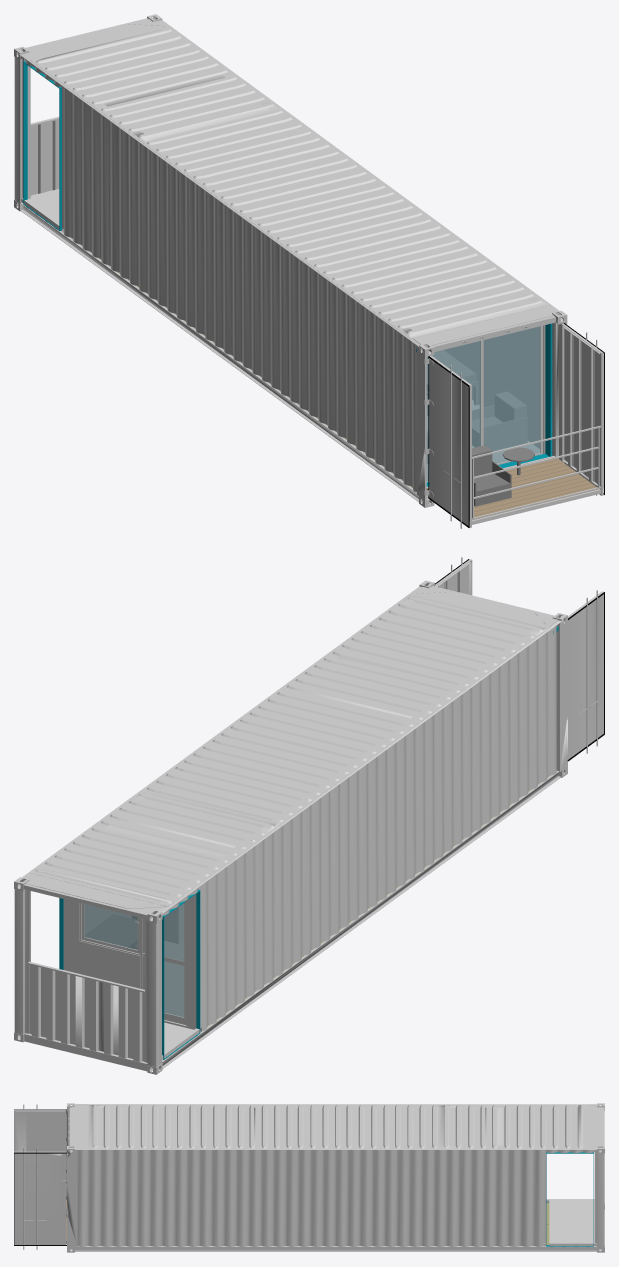
Rendered from sami_-_residential_40_container_design.glb.
The picture shows the model from 3 angles, top to bottom: view 1: azimuth 30°, elevation 25°; view 2: azimuth 150°, elevation 25°; view 3: azimuth 270°, elevation 25°; orthographic projection. The views are drawn at different scales.
Parts seen in each view (by area): view 1: Object_2, Object_4, Object_3, Object_15, Object_7, Object_12, Object_11, Object_6, Object_10; view 2: Object_2, Object_4, Object_3, Object_15, Object_11, Object_8, Object_7, Object_10; view 3: Object_2, Object_4, Object_3, Object_10, Object_6, Object_11.
Part boxes in pixels (x1,y1,x2,y2): Object_2: (14,18,600,524); Object_4: (30,26,603,521); Object_3: (14,14,603,528); Object_15: (426,326,540,481); Object_7: (427,350,534,506); Object_12: (426,457,599,520); Object_11: (23,61,552,486); Object_6: (428,323,604,527); Object_10: (21,189,63,232); Object_2: (14,585,603,1074); Object_4: (14,557,587,919); Object_3: (14,561,603,1074); Object_15: (84,904,184,1017); Object_11: (59,626,558,1059); Object_8: (164,941,183,1016); Object_7: (85,914,137,948); Object_10: (162,1022,201,1059); Object_2: (14,1104,604,1252); Object_4: (14,1104,601,1249); Object_3: (14,1103,604,1251); Object_10: (543,1199,597,1246); Object_6: (14,1109,67,1245); Object_11: (546,1152,593,1246).
Size of the model in its own units: 2438 by 2598 by 13392.
